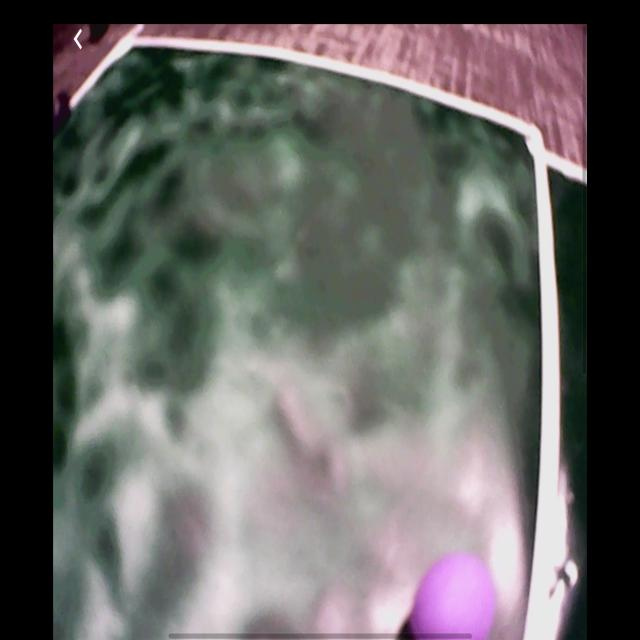ball: (408, 553, 498, 638)
